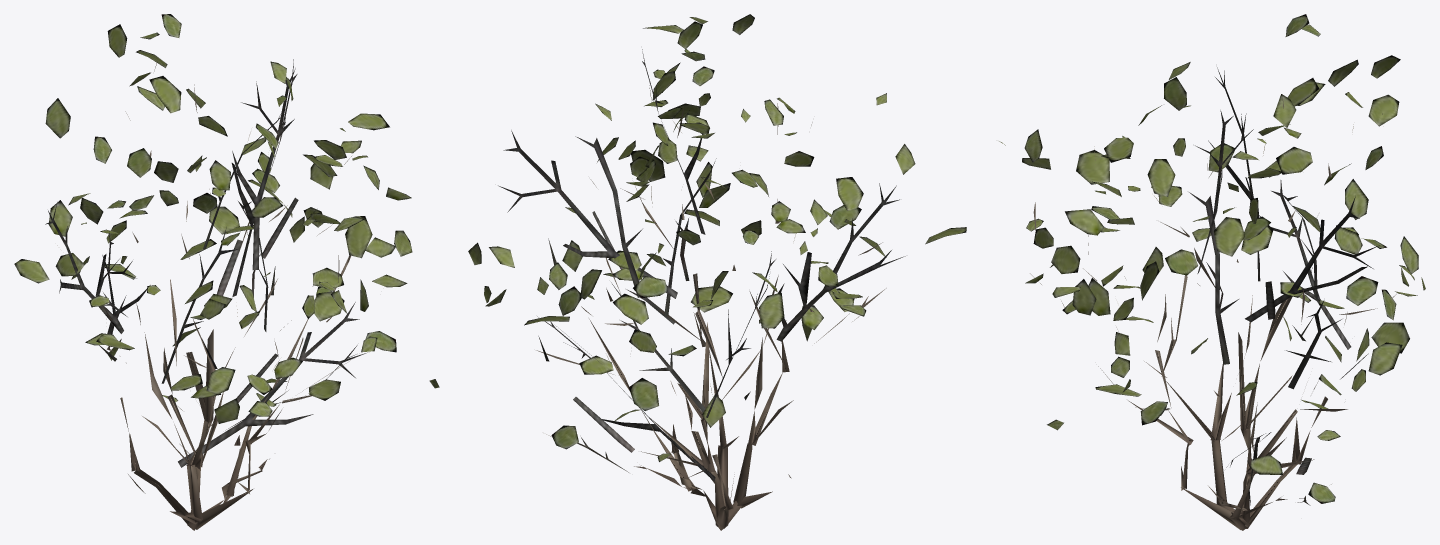
Rendered from arbuste_searsia_a_lod2.glb.
The picture shows the model from 3 angles, left to right: view 1: azimuth 30°, elevation 25°; view 2: azimuth 150°, elevation 25°; view 3: azimuth 270°, elevation 25°; orthographic projection. The views are drawn at different scales.
Parts seen in each view (by area): view 1: searsia_lucida_a_LOD0; view 2: searsia_lucida_a_LOD0; view 3: searsia_lucida_a_LOD0.
Boxes of the visible parts, bbox=[...] form: searsia_lucida_a_LOD0: bbox=[14, 14, 439, 530]; searsia_lucida_a_LOD0: bbox=[468, 14, 966, 530]; searsia_lucida_a_LOD0: bbox=[999, 14, 1425, 530].
Size of the model in its own units: 1.71 by 2.21 by 1.68.
Materials: 2 (2 with a texture image).
